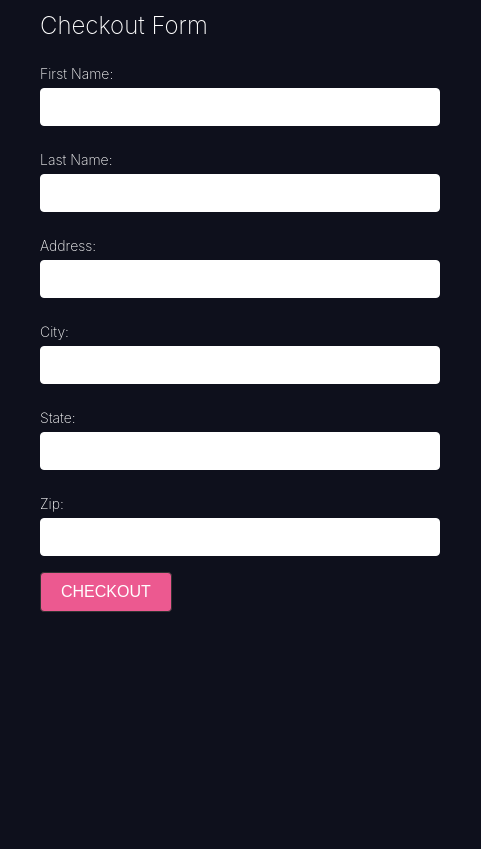
Test: form shows success message on submit with form details
Type "Vee" into the field labelled "First Name:" at x=240, y=107, box [40,88,440,126]
Type "Patel" into the field labelled "Last Name:" at x=240, y=193, box [40,174,440,212]
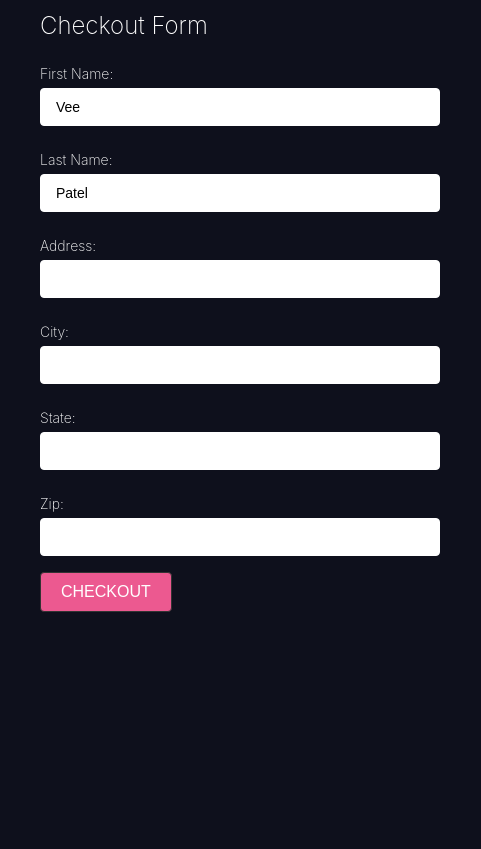
Type "3520 Birkdale ct" into the field labelled "Address:" at x=240, y=279, box [40,260,440,298]
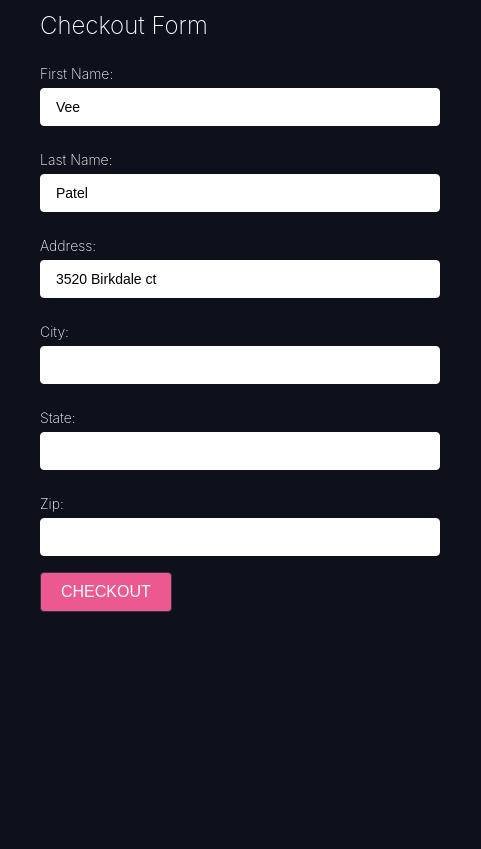
Type "Raliegh" into the field labelled "City:" at x=240, y=365, box [40,346,440,384]
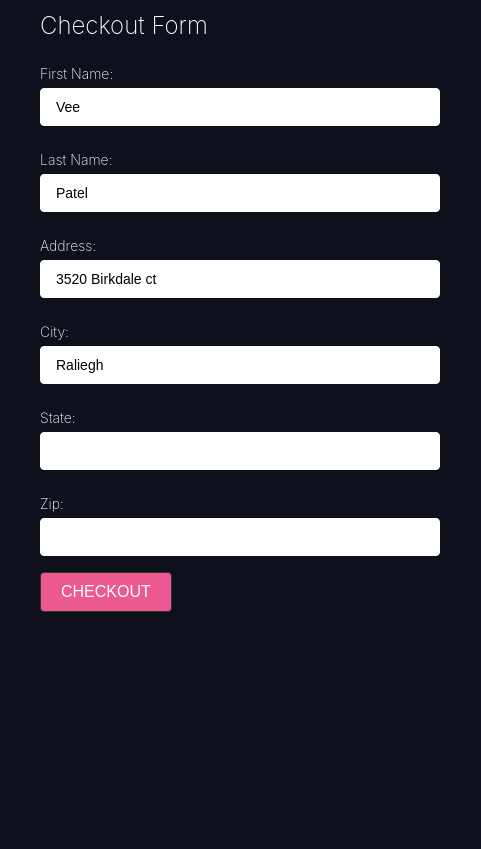
Type "NC" into the field labelled "State:" at x=240, y=451, box [40,432,440,470]
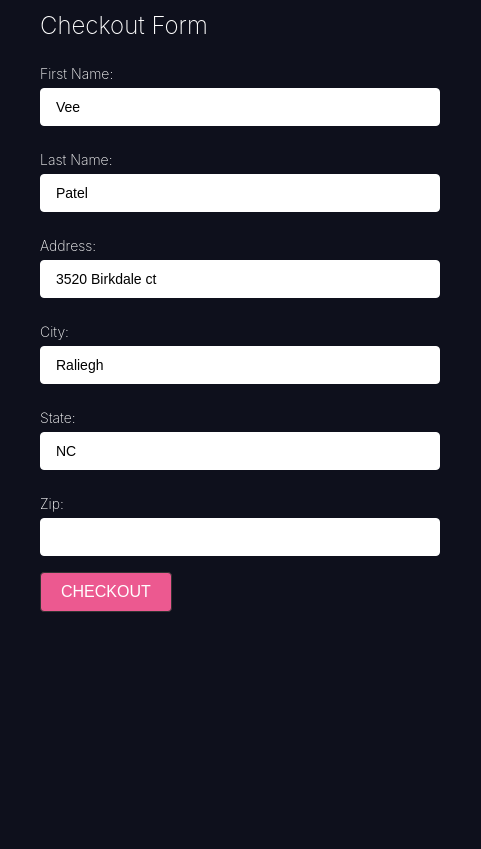
Type "28303" into the field labelled "Zip:" at x=240, y=537, box [40,518,440,556]
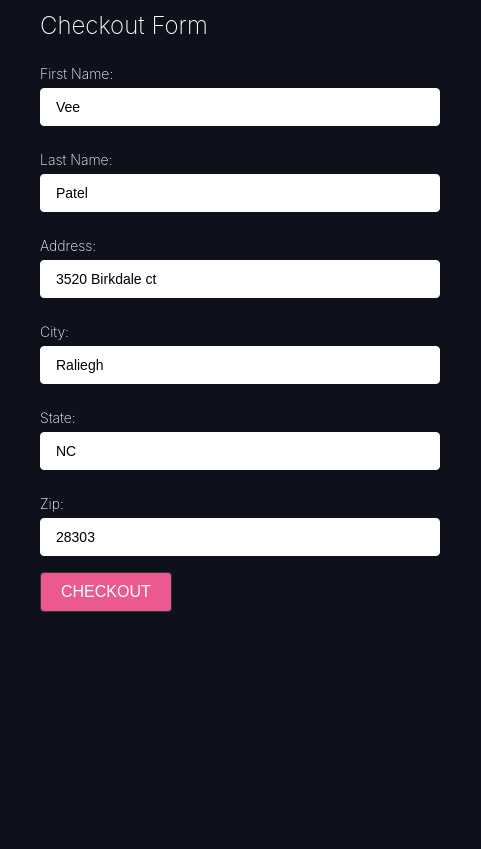
Click the button "Checkout" at x=106, y=592, box [40,572,172,612]
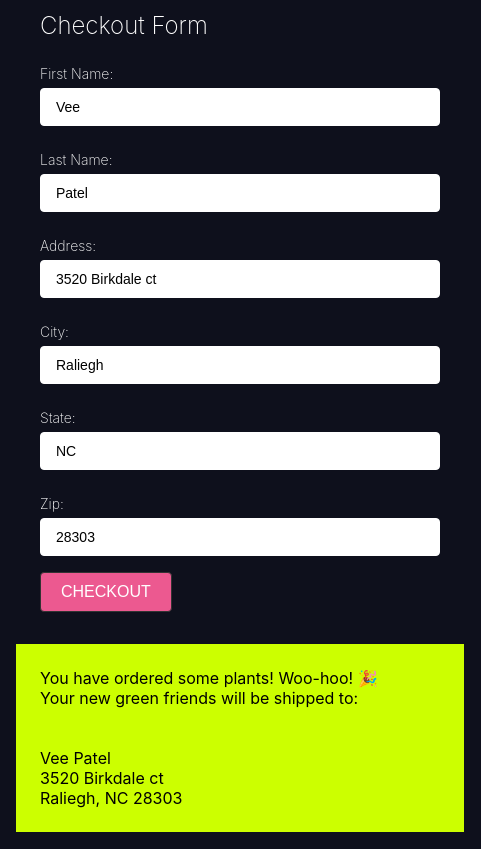
Check: the text "Vee Patel" is shown, box [40,748,111,768]
Check: the element with test id "successMessage" is shown, box [16,644,464,832]
